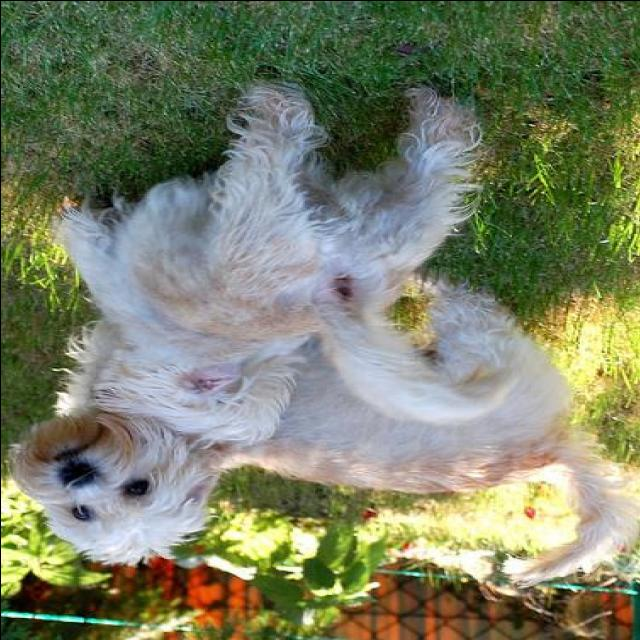dandie_dinmont: (5, 278, 637, 585), (51, 77, 523, 448)
